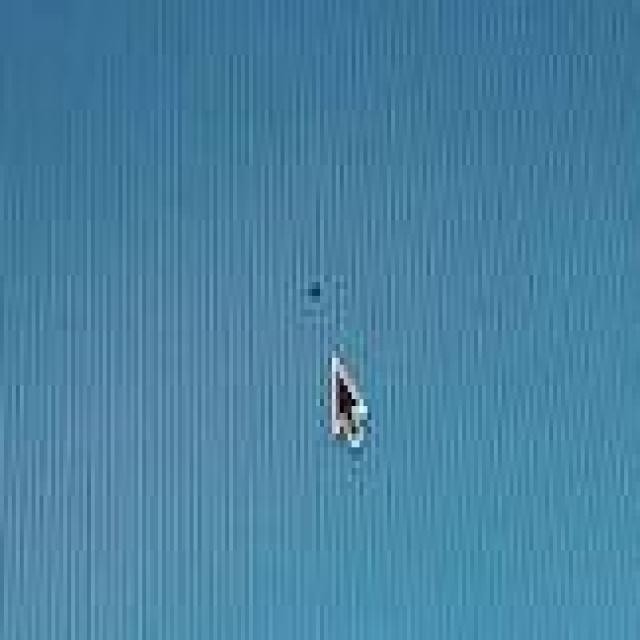dead_pixel: (309, 273, 328, 313)
